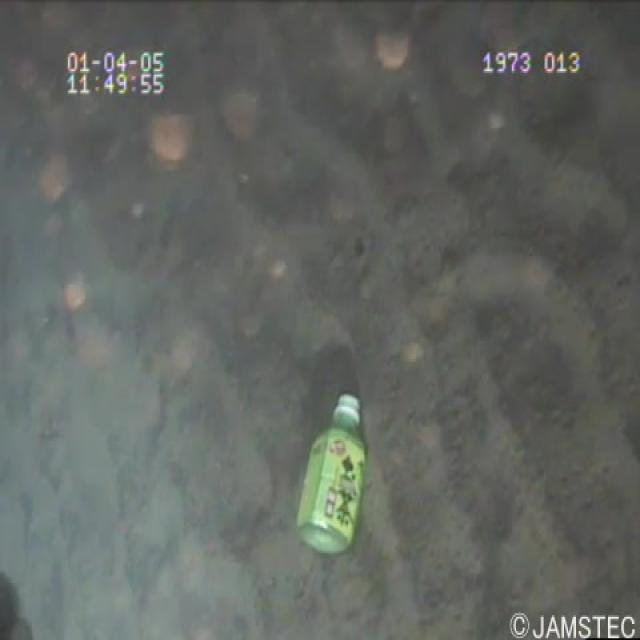plastic: (283, 386, 385, 558)
